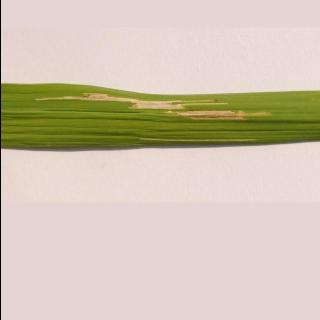Hawar-Daun: (27, 73, 260, 133)
